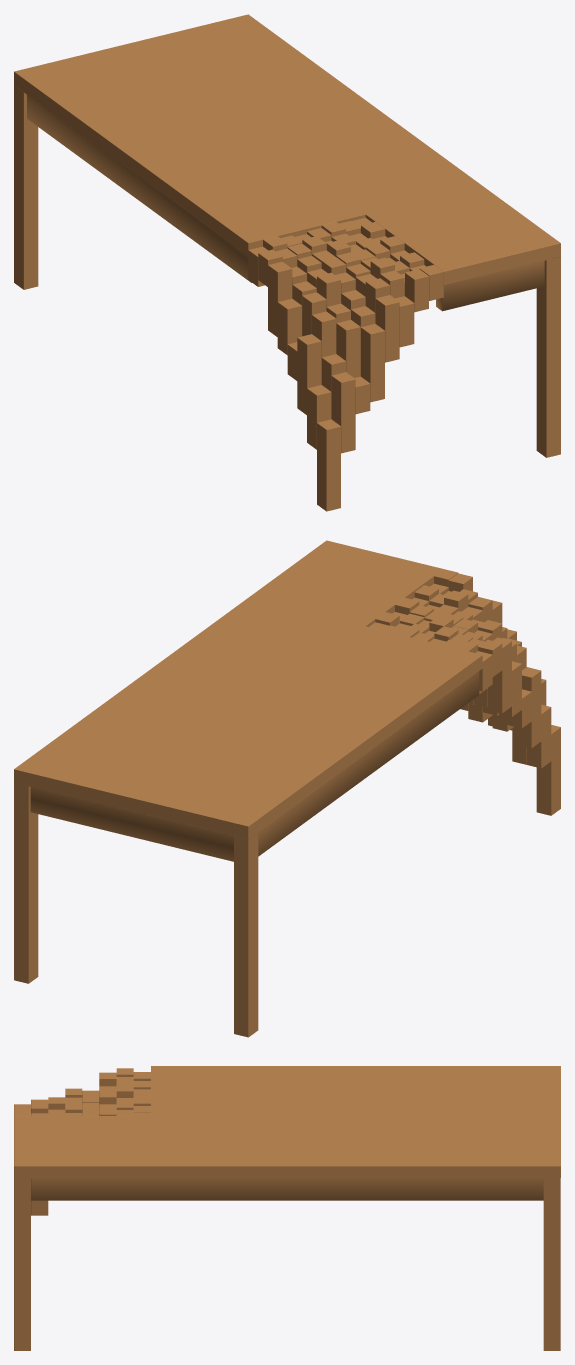
Rendered from FragmentedTable.fbx.
3 renders of one model, top to bottom at view 1: azimuth 30°, elevation 25°; view 2: azimuth 150°, elevation 25°; view 3: azimuth 270°, elevation 25°, orthographic. The views are drawn at different scales.
Visible parts, largest first — view 1: Table_Fragmented_Wood, Cube.001, Cube.068, Cube.065, Cube.067, Cube.072; view 2: Table_Fragmented_Wood, Cube.001, Cube.068, Cube.070, Cube.067, Cube.066; view 3: Table_Fragmented_Wood, Cube.071, Cube.001, Cube.066, Cube.065.
Boxes of the visible parts, box(x1,y1,x2,y2) form: Table_Fragmented_Wood: box(14, 14, 560, 284); Cube.001: box(248, 217, 443, 511); Cube.068: box(27, 95, 251, 282); Cube.065: box(536, 257, 560, 457); Cube.067: box(14, 85, 38, 289); Cube.072: box(436, 261, 544, 311); Table_Fragmented_Wood: box(14, 540, 482, 839); Cube.001: box(369, 569, 560, 815); Cube.068: box(258, 671, 479, 856); Cube.070: box(30, 787, 233, 861); Cube.067: box(234, 833, 258, 1037); Cube.066: box(14, 783, 38, 983); Table_Fragmented_Wood: box(14, 1066, 560, 1177); Cube.071: box(31, 1178, 543, 1200); Cube.001: box(14, 1068, 150, 1215); Cube.066: box(543, 1178, 560, 1350); Cube.065: box(14, 1178, 30, 1350).
Bounding box in the file's own units: 72.71 × 62.61 × 168.
